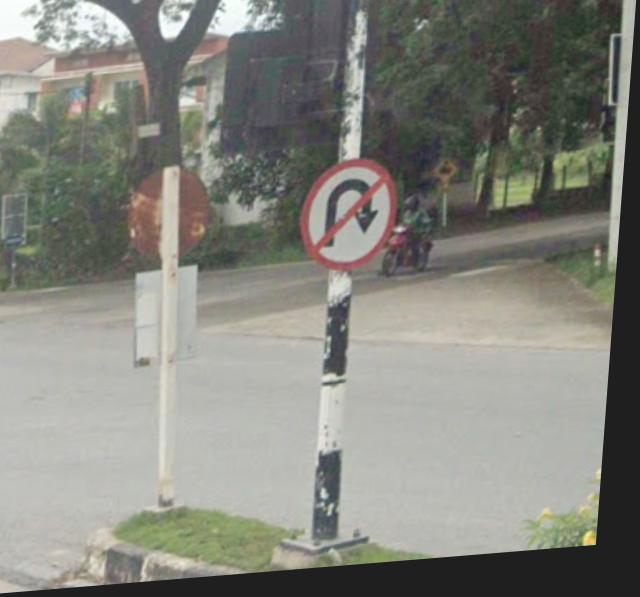not_u_turn_right: (292, 160, 410, 289)
